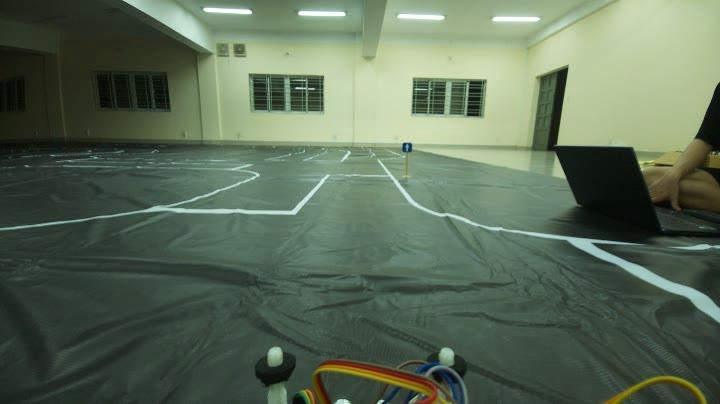onewayroad: (396, 137, 416, 161)
